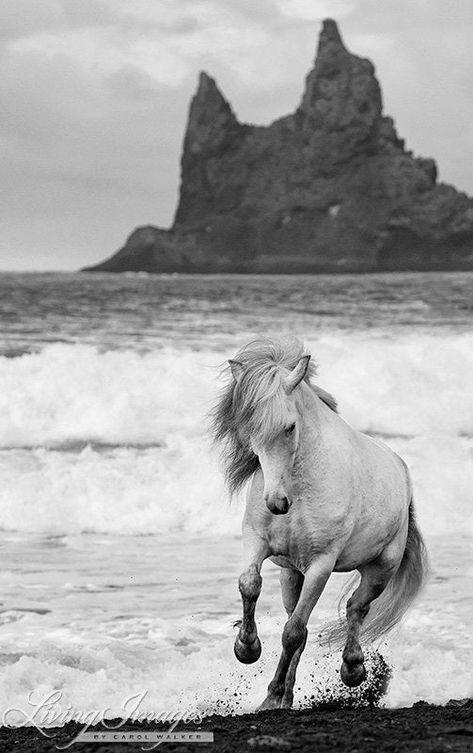horse: (205, 335, 429, 712)
